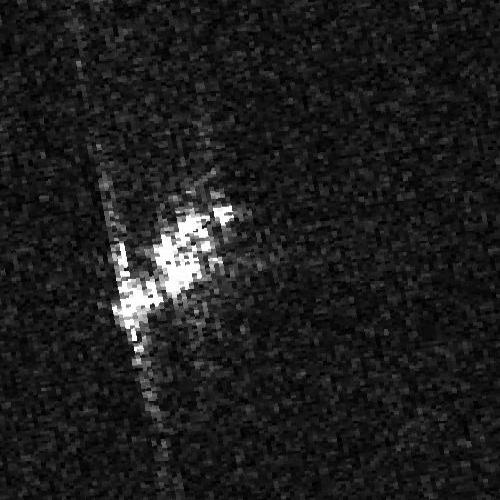ship: (111, 202, 236, 331)
